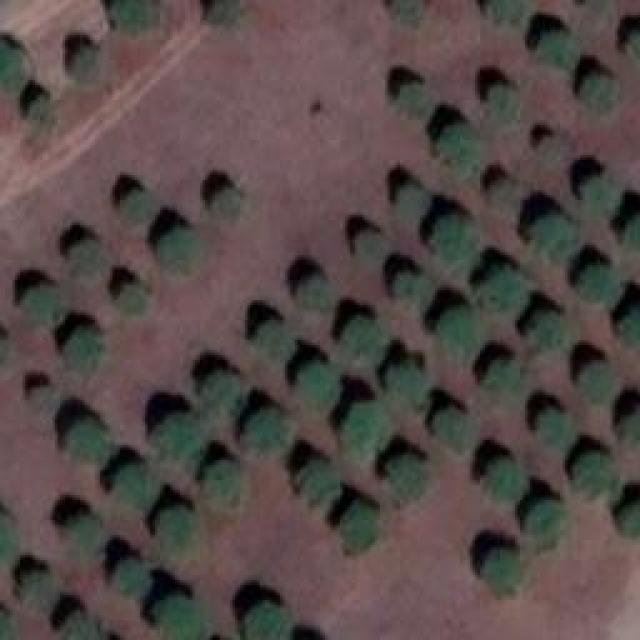Tree: (428, 210, 483, 265), (160, 228, 208, 283), (438, 123, 483, 176), (345, 403, 390, 456), (108, 0, 168, 38), (335, 503, 380, 553), (248, 408, 293, 458), (158, 592, 203, 640), (155, 415, 203, 460), (425, 405, 473, 450), (158, 505, 201, 555), (203, 463, 246, 513), (295, 458, 345, 501), (295, 362, 338, 410), (523, 497, 566, 545), (440, 307, 483, 355), (240, 600, 290, 640), (60, 418, 105, 461), (390, 360, 430, 408), (483, 550, 523, 598), (115, 462, 153, 510), (485, 357, 523, 405), (535, 30, 580, 70), (478, 458, 523, 498), (578, 263, 621, 303), (200, 370, 243, 410), (478, 270, 521, 310), (343, 315, 383, 358), (385, 455, 423, 500), (60, 328, 100, 368), (573, 450, 608, 495), (20, 287, 60, 325), (488, 85, 523, 128), (0, 38, 28, 91), (62, 512, 100, 550), (530, 310, 568, 348), (250, 317, 288, 355), (533, 215, 573, 250), (395, 80, 430, 118), (580, 75, 615, 113), (393, 270, 428, 308), (70, 45, 103, 85), (388, 0, 428, 30), (63, 240, 103, 270), (480, 180, 515, 213), (113, 555, 146, 590), (535, 410, 568, 445), (125, 188, 158, 223), (583, 362, 613, 400), (298, 275, 328, 313), (27, 95, 55, 135), (617, 302, 640, 349), (23, 573, 53, 608), (617, 497, 640, 542), (58, 615, 98, 640), (213, 188, 243, 221), (205, 0, 240, 28), (487, 0, 525, 25), (395, 183, 423, 216), (578, 175, 611, 203), (617, 407, 640, 447), (353, 230, 383, 258), (117, 280, 145, 308), (577, 0, 610, 22), (622, 213, 640, 253), (542, 138, 560, 161), (30, 385, 50, 405)
